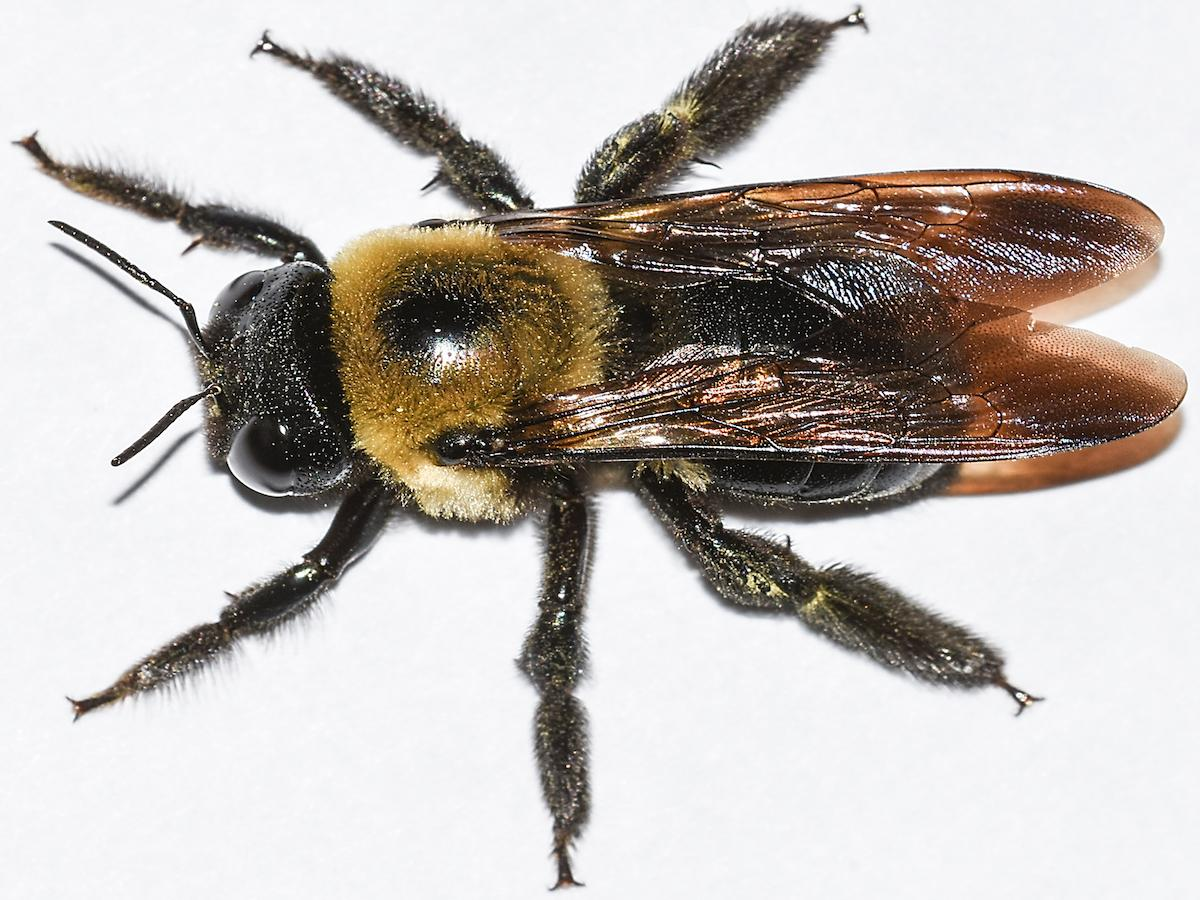Xylocopa: (14, 0, 1170, 875)
